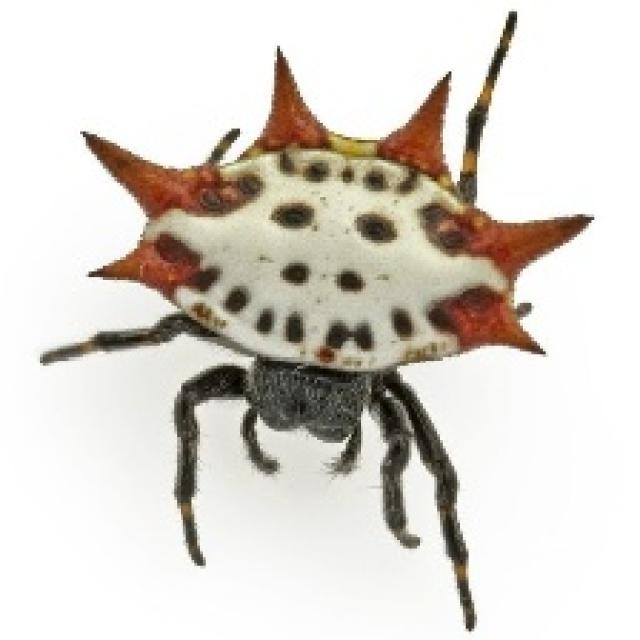Non venomous spider: (26, 44, 606, 586)
